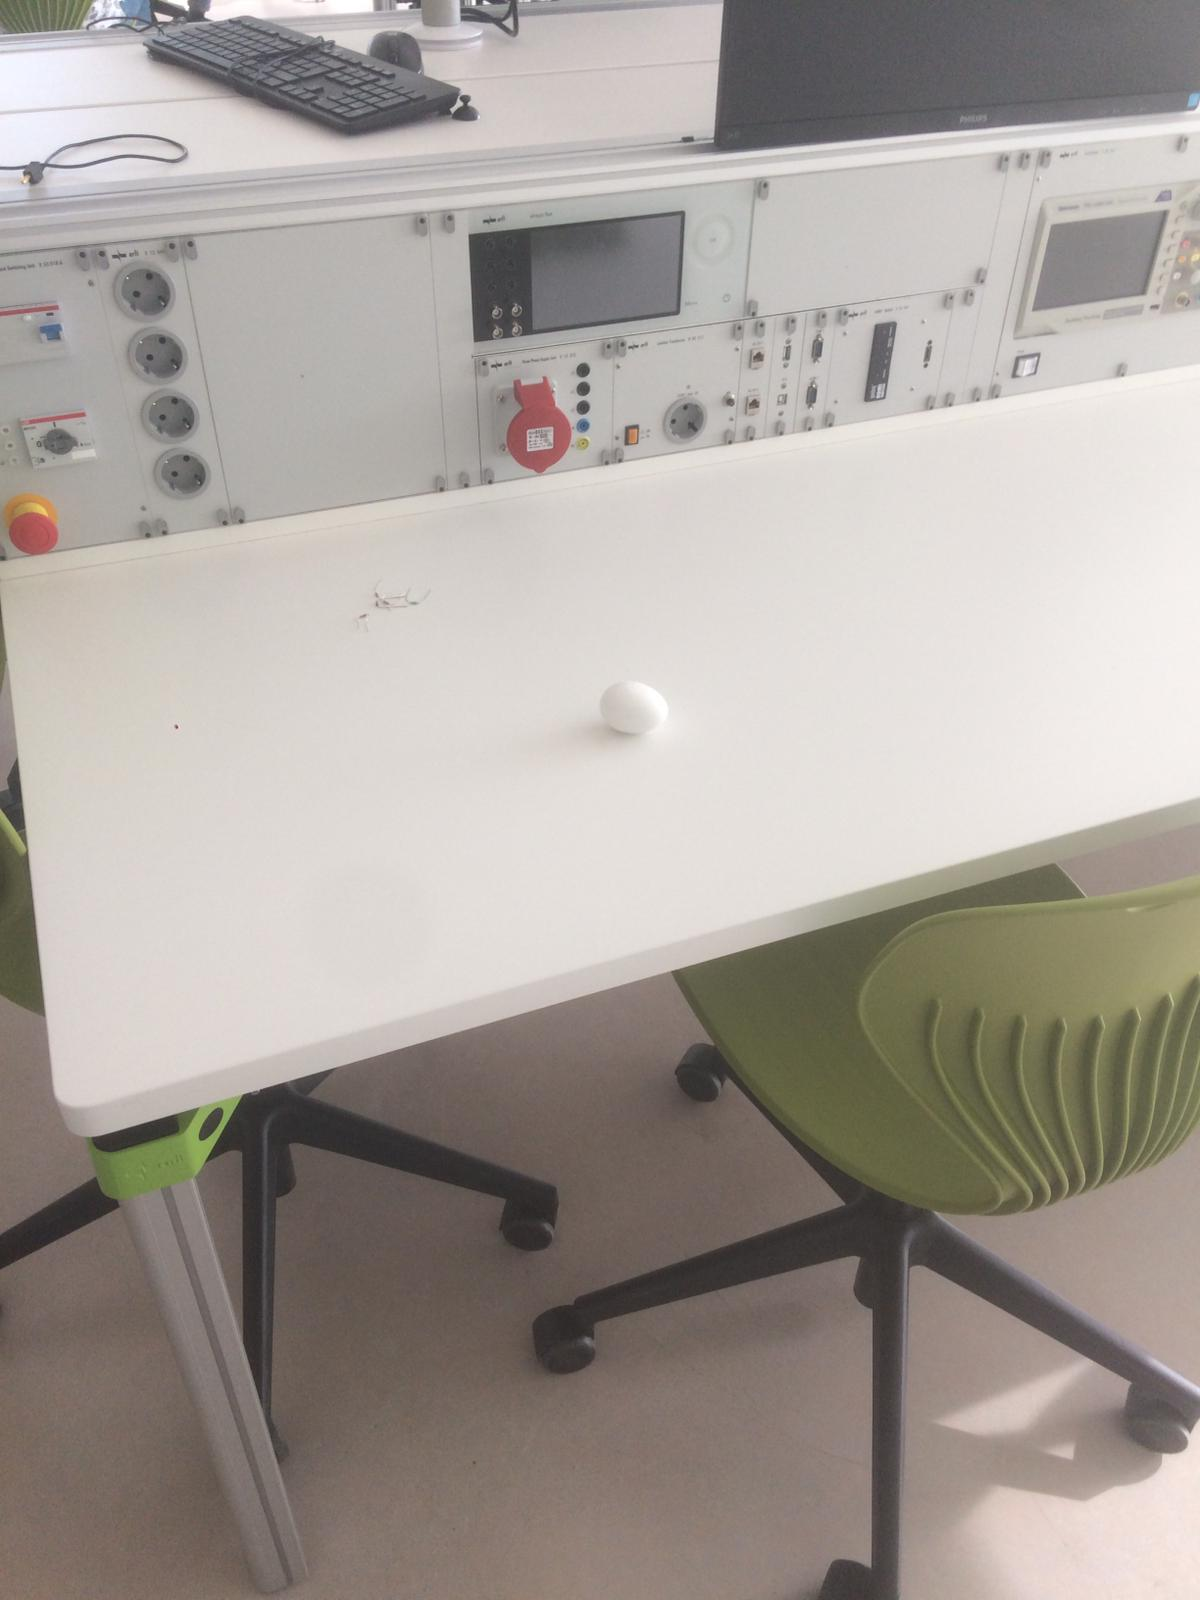egg: (590, 674, 679, 740)
